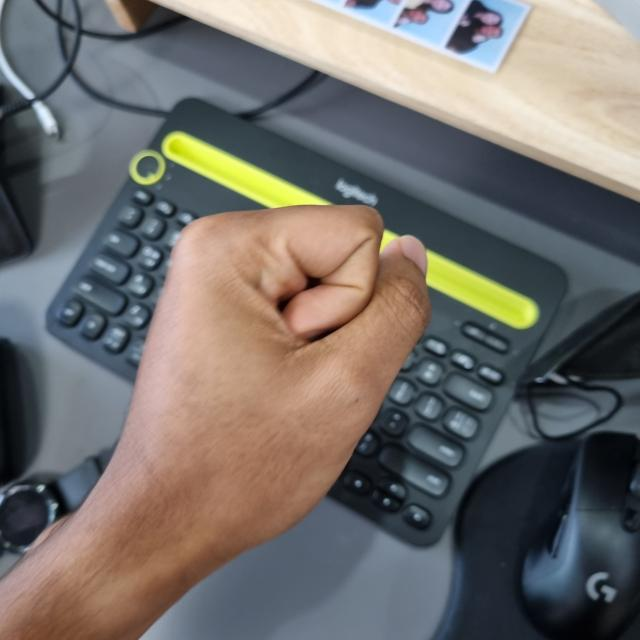Rock: (116, 207, 430, 554)
